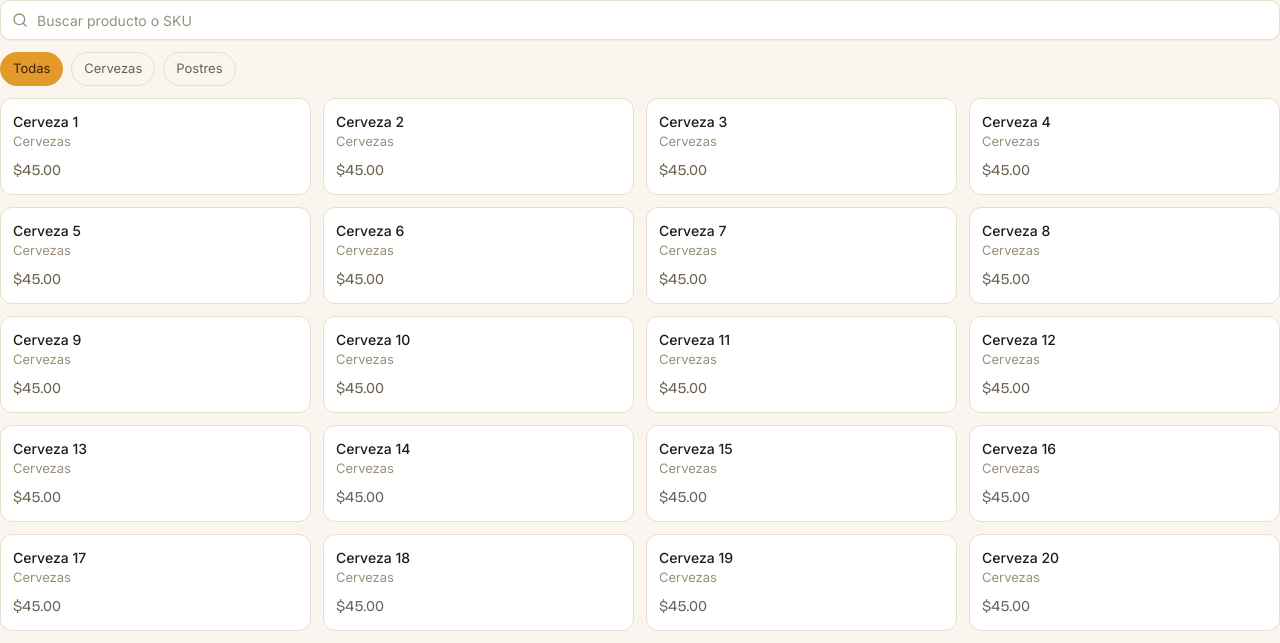
Test: ProductoPicker › la categoría cuyos productos caen en la página 2 no se pinta vacía
Click the button "Postres" at (199, 69), box left=163, top=52, right=236, bottom=86
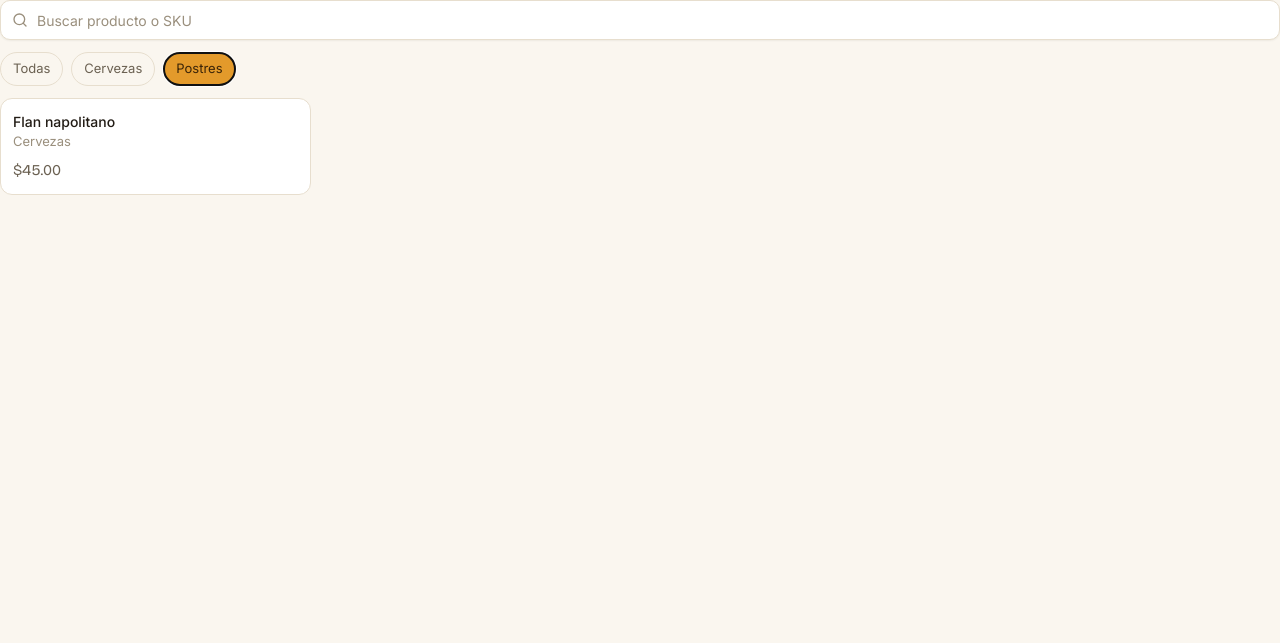
Expected: the text "Flan napolitano" is shown, left=13, top=110, right=115, bottom=132
Expected: the button "Cerveza 1" is gone
